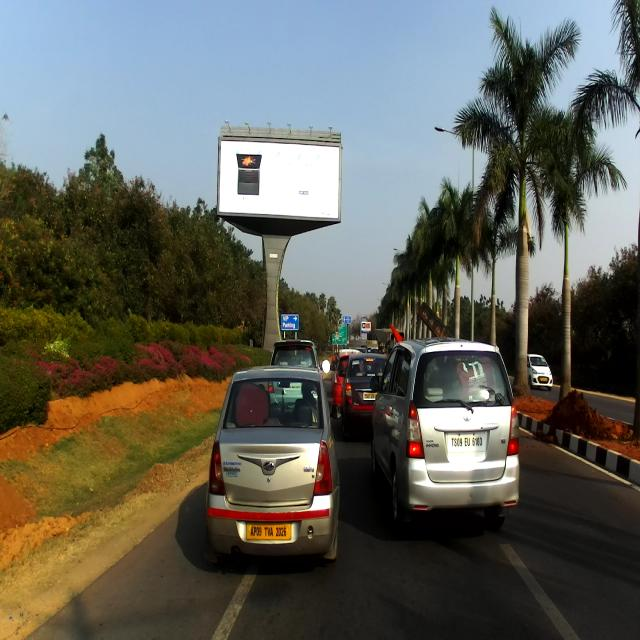car ahead at: (372, 326, 530, 538), (203, 358, 340, 572)
